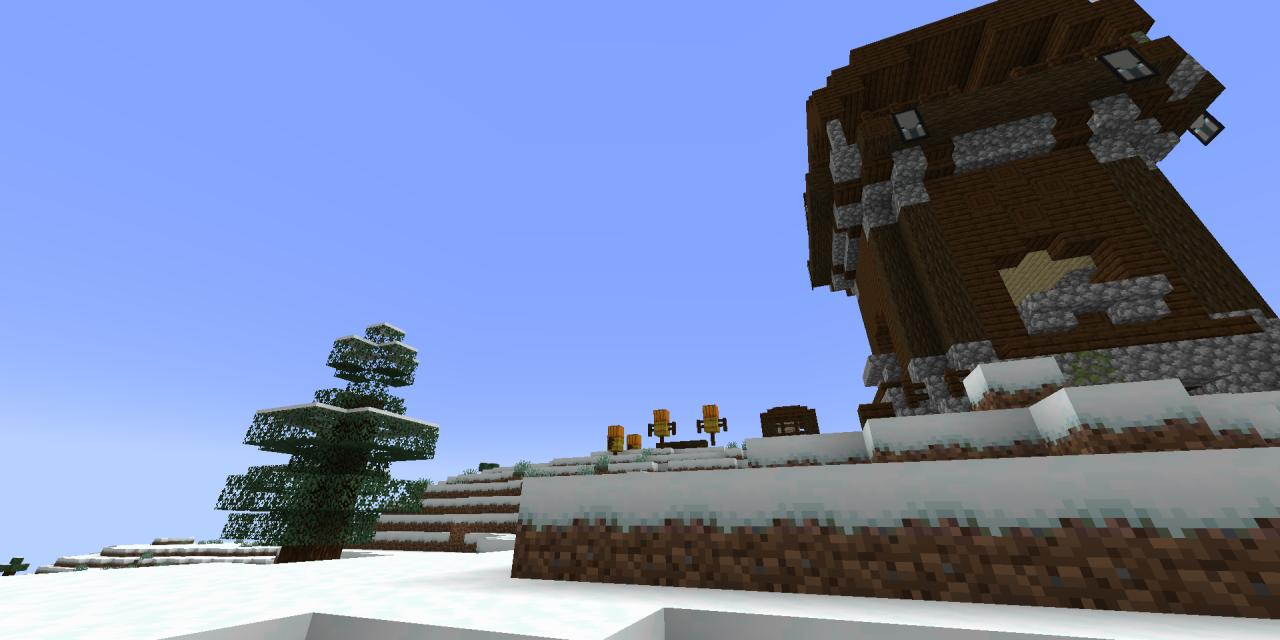pillager outpost: (783, 0, 1280, 435)
